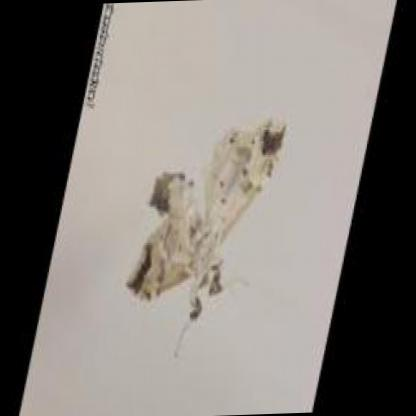leucinodes: (124, 124, 284, 304)
